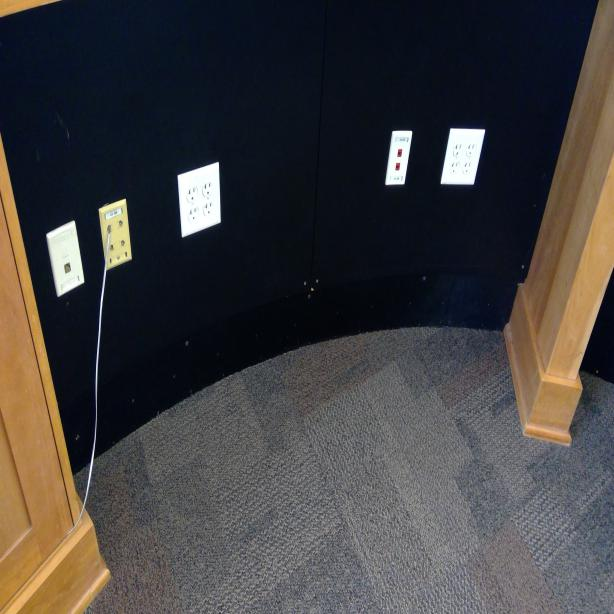typeb: (186, 182, 197, 203), (449, 160, 460, 175), (202, 182, 212, 198), (186, 208, 197, 221), (464, 160, 472, 176), (454, 142, 462, 156), (205, 202, 213, 216), (468, 141, 475, 156)
